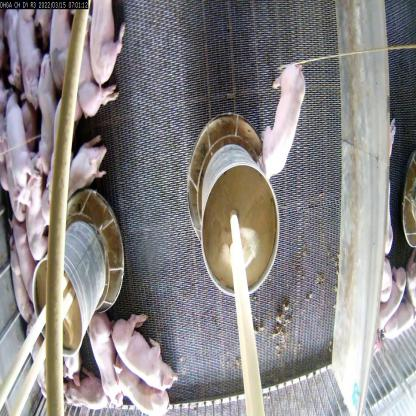Pig: (258, 63, 314, 180), (106, 307, 170, 391), (43, 142, 111, 210), (83, 0, 129, 96), (4, 98, 41, 202), (38, 0, 77, 87), (75, 21, 112, 112), (118, 365, 177, 415), (90, 316, 119, 415), (24, 174, 50, 261), (37, 64, 59, 166), (15, 214, 44, 288), (65, 370, 109, 415), (2, 254, 29, 323)
